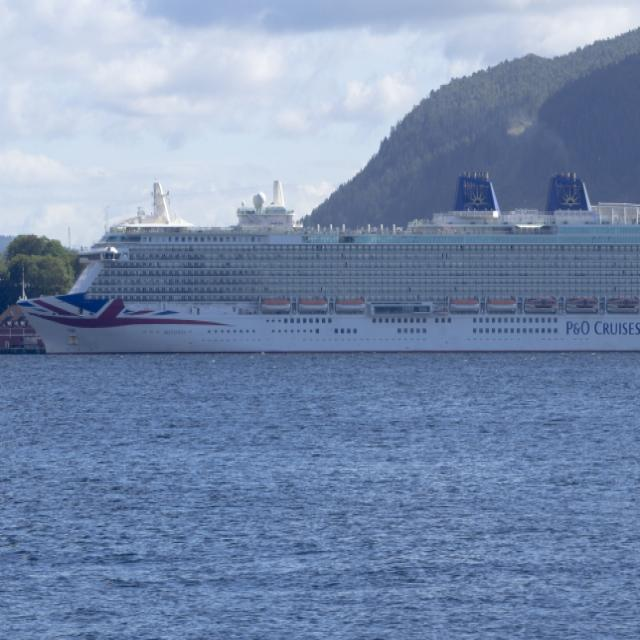cruises: (10, 167, 640, 363)
